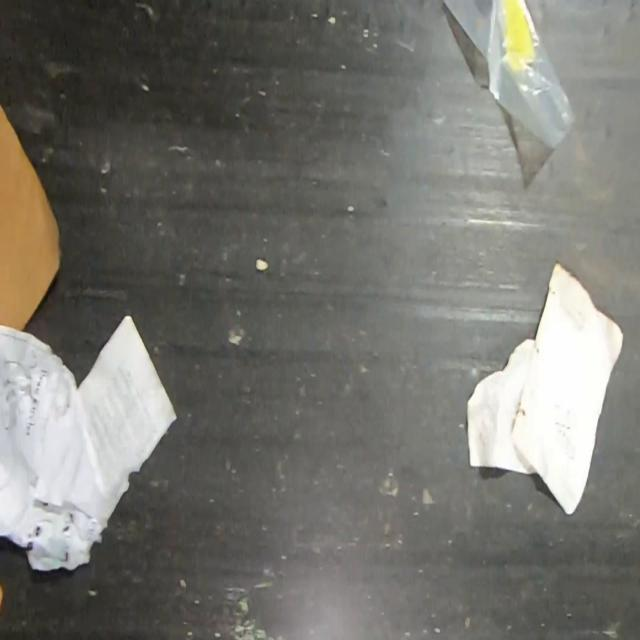cardboard: (0, 94, 63, 333)
soft_plastic: (443, 0, 578, 152)
